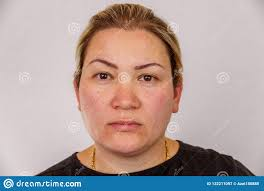white_female: (62, 26, 181, 162)
